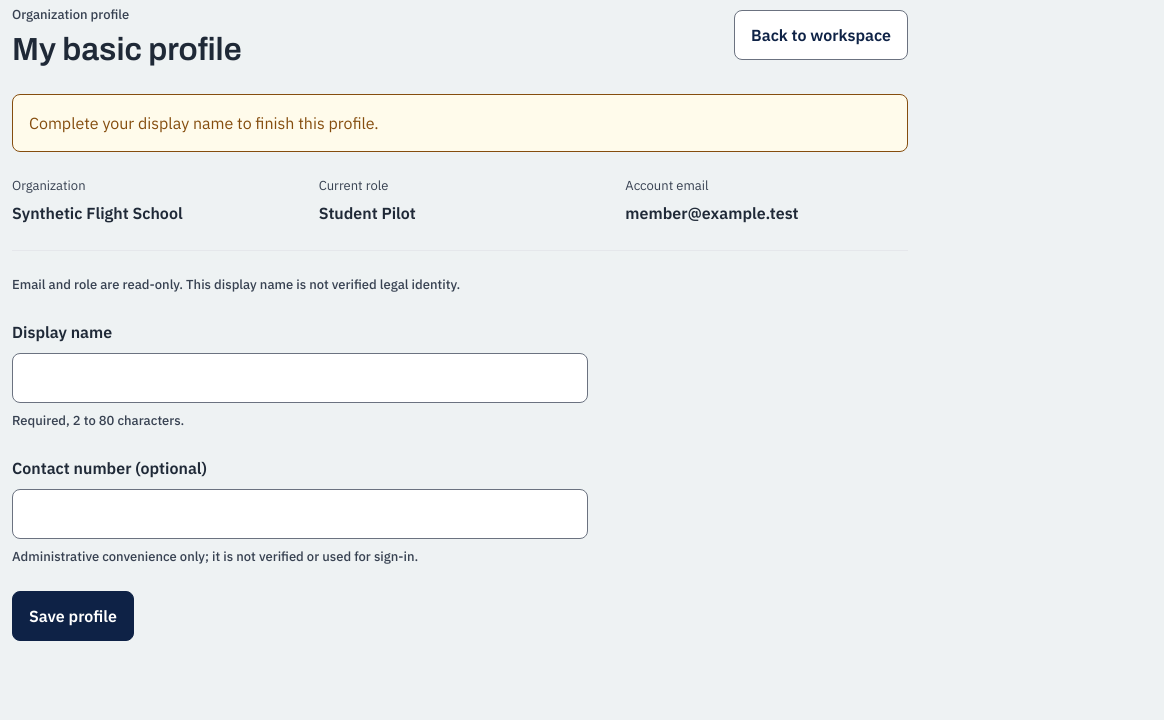
Test: MemberProfilePanel › keeps offline edits in memory and sends nothing until a manual online save
This screenshot has width=1164, height=720.
Type "Synthetic Member" into the field labelled "Display name" at (300, 378), box x1=12 y1=353 x2=588 y2=403
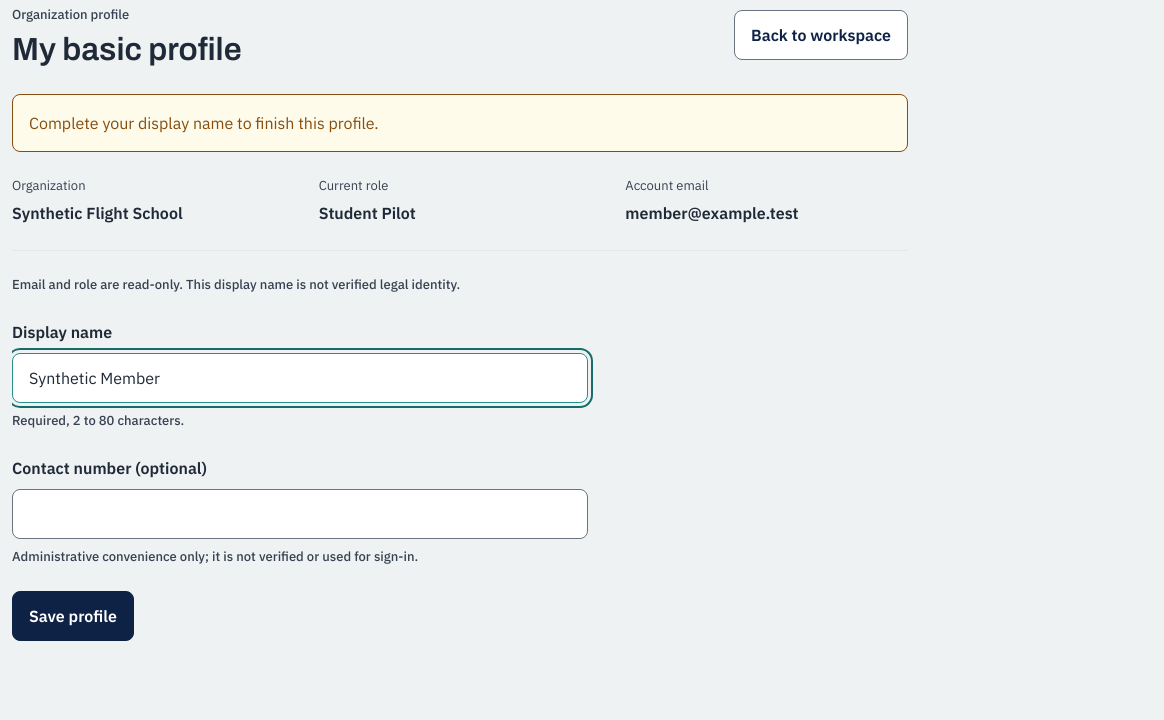
Click the button "Save profile" at (73, 616), box x1=12 y1=591 x2=134 y2=641
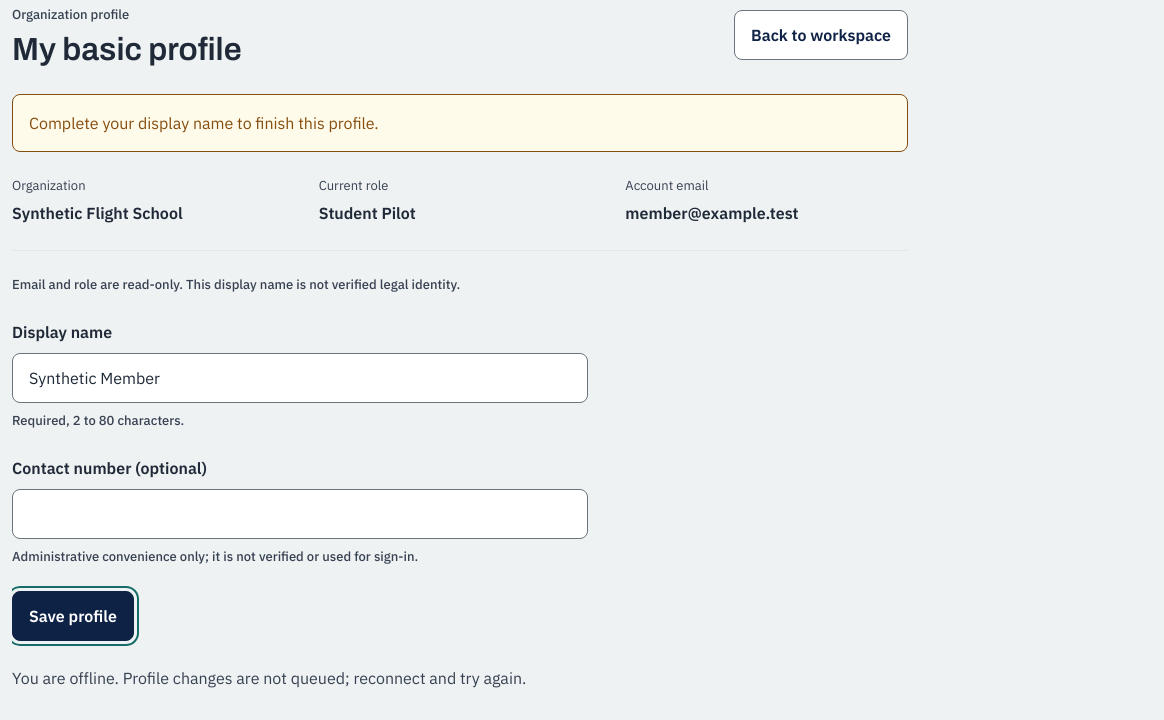
Check: the text "You are offline. Profile changes are not queued; reconnect and try again." is shown, box x1=12 y1=668 x2=526 y2=688
Click the button "Save profile" at (73, 616), box x1=12 y1=591 x2=134 y2=641
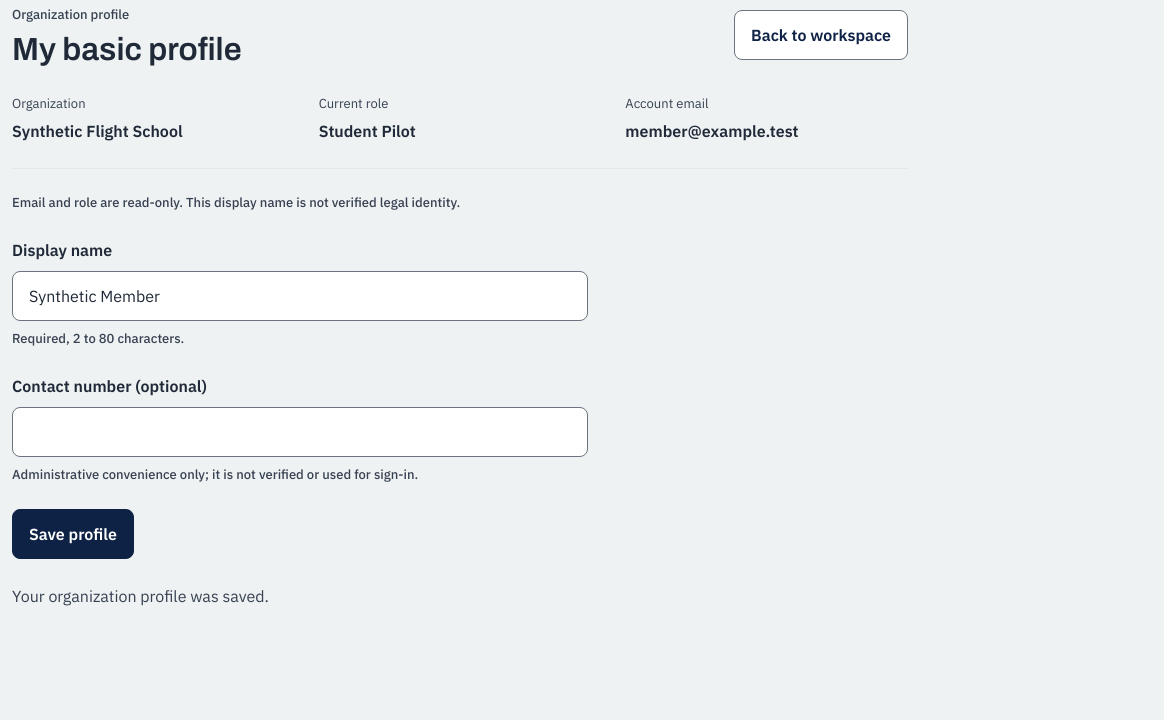
Check: the text "Your organization profile was saved." is shown, box x1=12 y1=586 x2=269 y2=606
